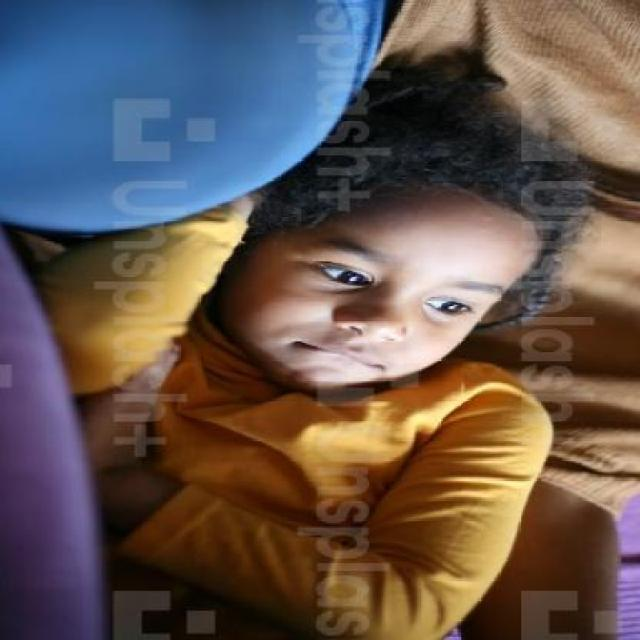baby: (43, 100, 562, 638)
